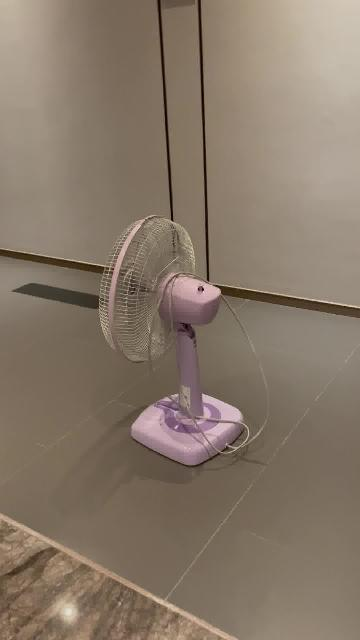Fan: (99, 216, 244, 467)
